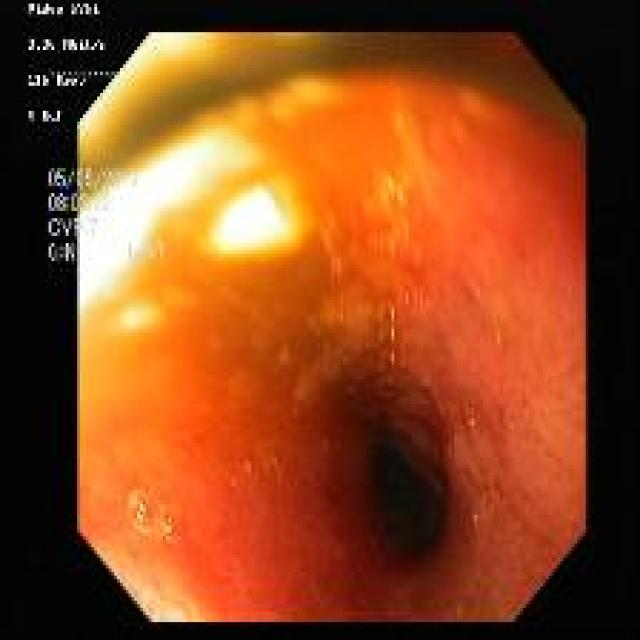ulcerative-colitis: (80, 77, 584, 620)
